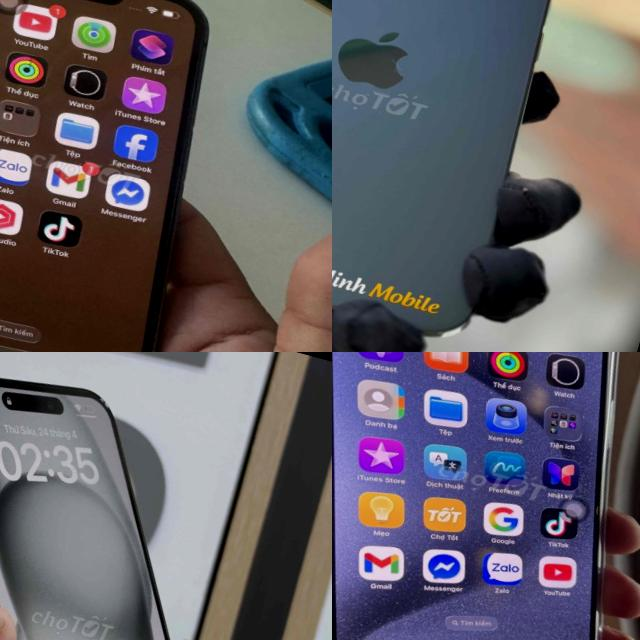gen_12_13: (0, 0, 274, 352)
gen_14: (332, 0, 600, 350)
gen_15: (0, 352, 332, 640), (332, 352, 640, 640)
